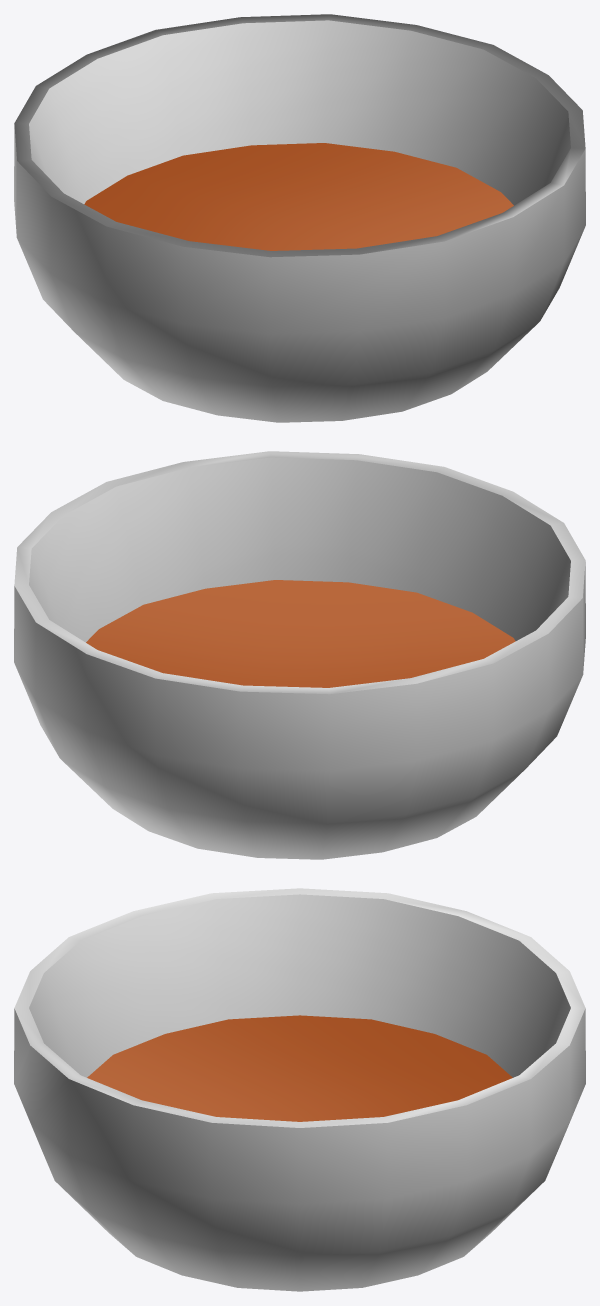
File: Sushi Sauce_3.fbx
3 views of the same model, one above another, from view 1: azimuth 30°, elevation 25°; view 2: azimuth 150°, elevation 25°; view 3: azimuth 270°, elevation 25° (orthographic).
Parts seen in each view (by area): view 1: Sushi Sauce_3; view 2: Sushi Sauce_3; view 3: Sushi Sauce_3.
Boxes of the visible parts, box(x1,y1,x2,y2) form: Sushi Sauce_3: box(14, 14, 585, 422); Sushi Sauce_3: box(14, 451, 585, 859); Sushi Sauce_3: box(14, 888, 585, 1291).
Size of the model in its own units: 0.0661 by 0.0255 by 0.0666.
